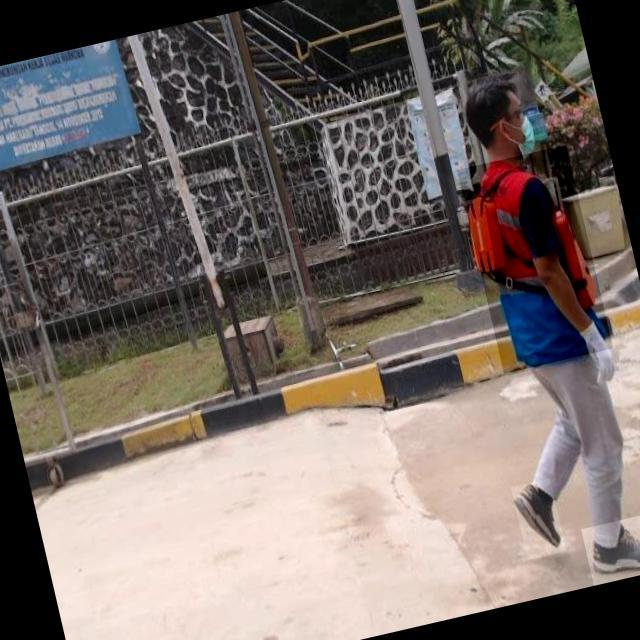Gloves: (568, 315, 620, 389)
Person: (438, 64, 640, 599)
Safety Boot: (510, 478, 566, 560), (580, 511, 640, 585)
Safety Vest: (457, 144, 613, 373)
no-helmet: (458, 74, 527, 110)
